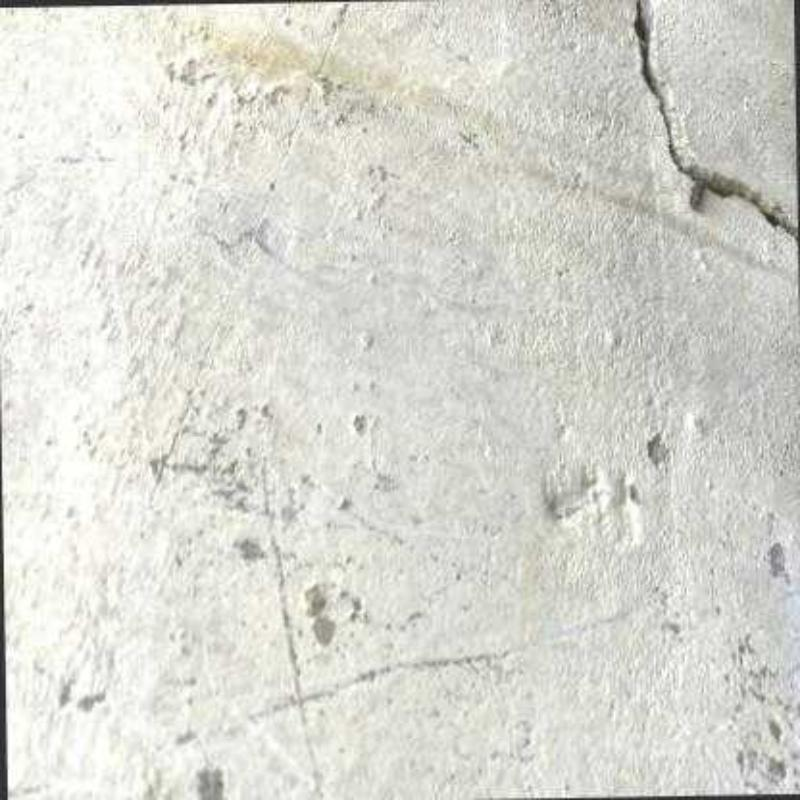crack: (633, 0, 797, 247)
